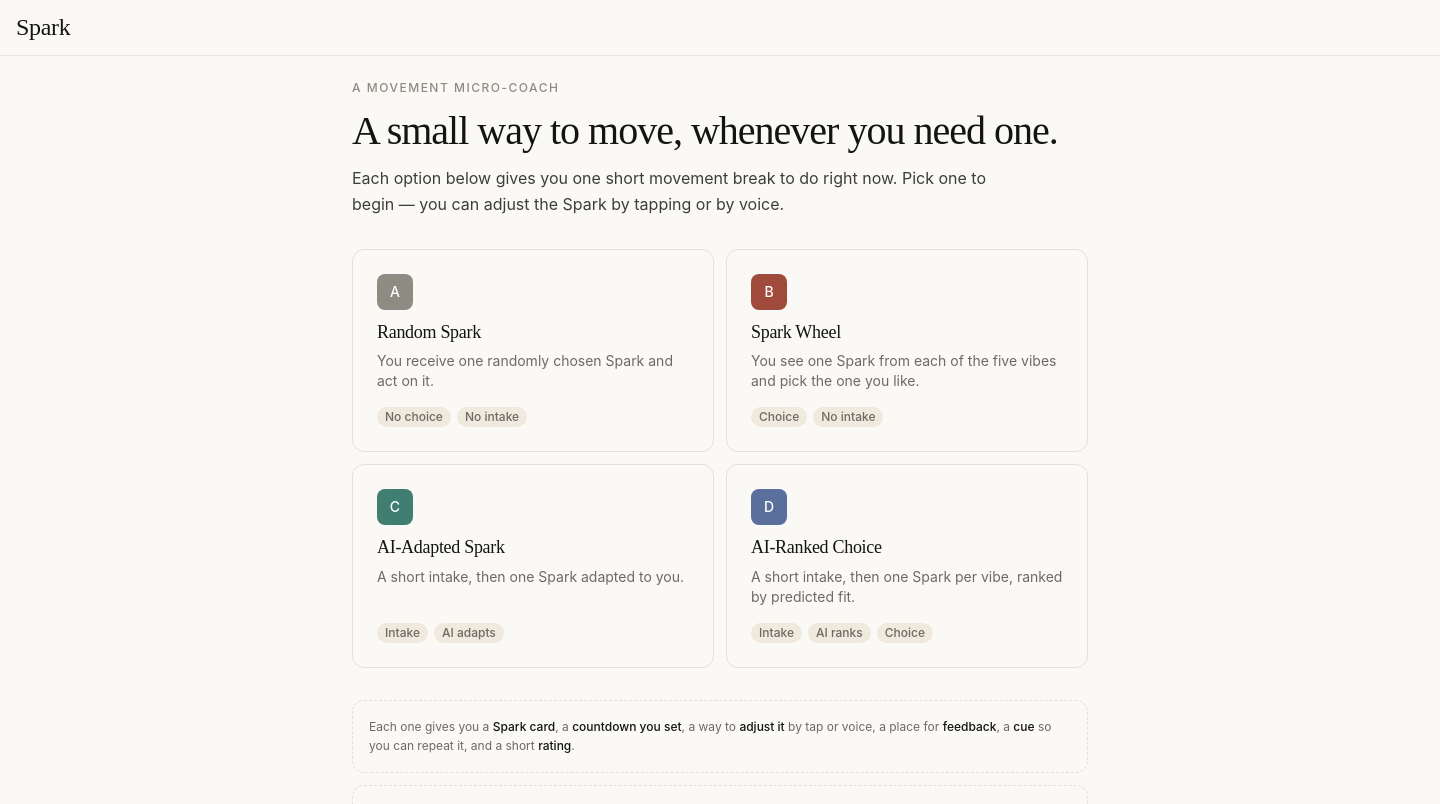
Test: Spark page › honours the countdown policy the server served
The width and height of the screenshot is (1440, 804).
Click the button with test id "spark-cond-A": x=533, y=351 [352,249,714,452]
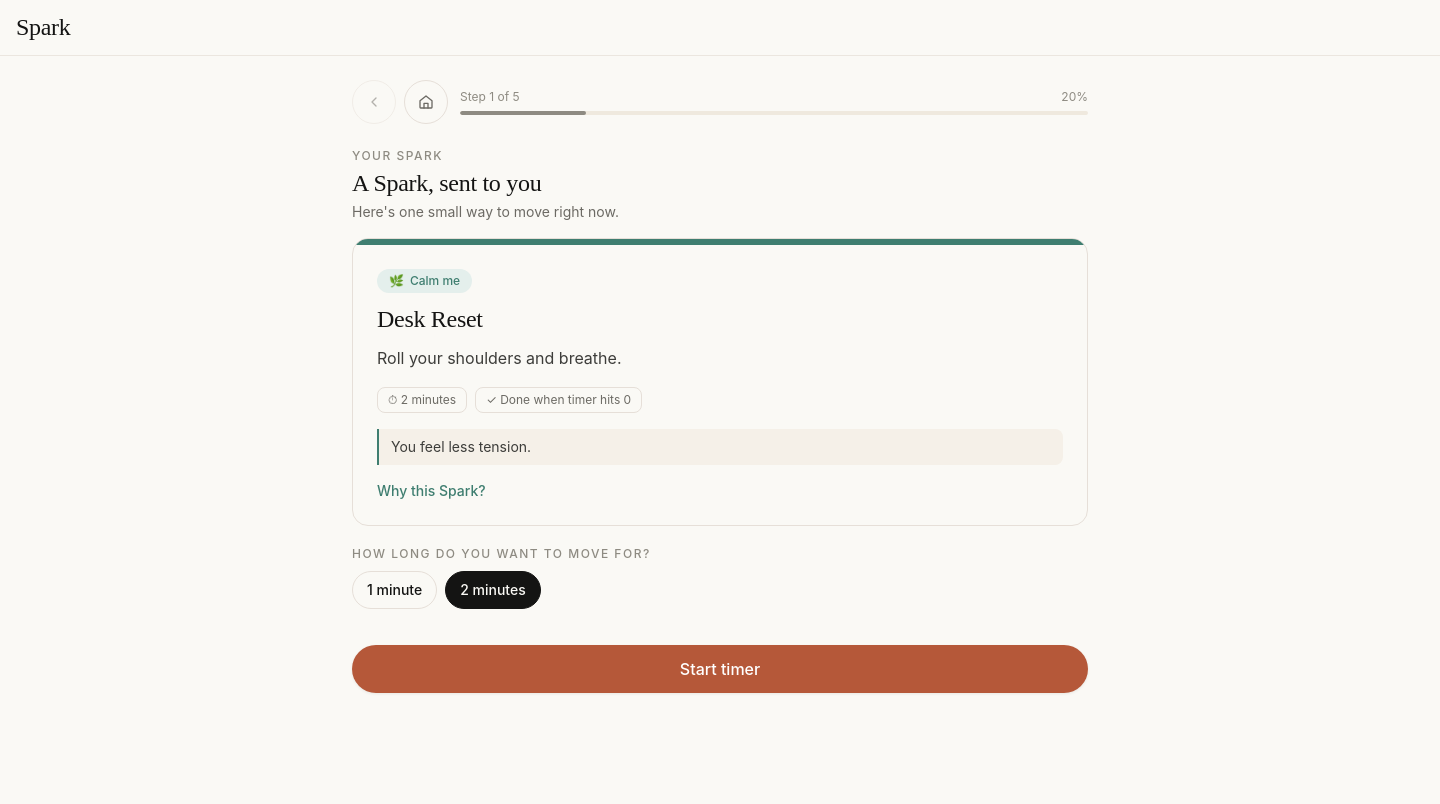
Expected: the element with test id "spark-card" is shown, [352,238,1088,526]
Expected: the text "⏱ 2 minutes" is shown, [377,387,467,413]
